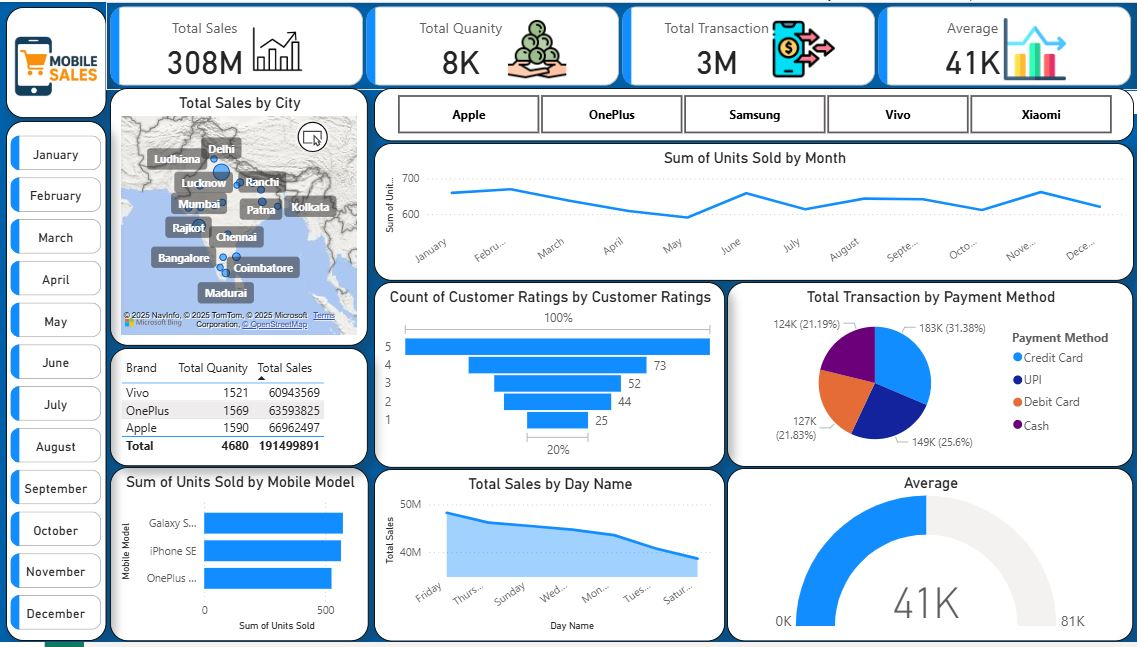

This screenshot's page, from the dashboard's own definition file:
{"tool":"powerbi","page":{"name":"Page 1","canvas":[1280,720],"ordinal":0},"visuals":[{"type":"shape","box":[6.8,5.6,112.5,124.9],"z":0},{"type":"cardVisual","fields":{"Data":["Sales_Data.Total Sales","Sales_Data.Total Quanity","Sales_Data.Total Transaction","Sales_Data.Average"]},"box":[119,0,1161,99],"z":1000},{"type":"map","fields":{"Size":["Sales_Data.Total Sales"],"Category":["Sales_Data.City"]},"box":[123.8,96.8,290.2,290.2],"z":2000},{"type":"lineChart","fields":{"Y":["Sum(Sales_Data.Units Sold)"],"Category":["Sales_Data.Date .Variation.Date Hierarchy.Month","Sales_Data.Date .Variation.Date Hierarchy.Day"]},"box":[420.8,158.6,855,155.2],"z":3000},{"type":"clusteredBarChart","fields":{"Category":["Sales_Data.Mobile Model"],"Y":["Sum(Sales_Data.Units Sold)"]},"box":[123.8,523.1,291.4,195.8],"z":4000},{"type":"pieChart","fields":{"Category":["Sales_Data.Payment Method"],"Y":["Sales_Data.Total Transaction"]},"box":[817.9,315,456.8,208.1],"z":5000},{"type":"funnel","fields":{"Category":["Sales_Data.Customer Ratings"],"Y":["CountNonNull(Sales_Data.Customer Ratings)"]},"box":[420.8,315,394.9,209.2],"z":6000},{"type":"areaChart","fields":{"Category":["Sales_Data.Day Name"],"Y":["Sales_Data.Total Sales"]},"box":[420.8,525.4,394.9,193.5],"z":7000},{"type":"tableEx","fields":{"Values":["Sales_Data.Brand","Sales_Data.Total Quanity","Sales_Data.Total Sales"]},"box":[123.8,389.2,290.2,132.8],"z":8000},{"type":"gauge","fields":{"Y":["Sales_Data.Average"]},"box":[817.9,524.2,456.8,194.6],"z":9000},{"type":"slicer","title":"S","fields":{"Values":["Sales_Data.Brand"]},"box":[420.8,96.8,855,59.6],"z":10000},{"type":"shape","box":[6.8,133.9,112.5,585],"z":11000},{"type":"advancedSlicerVisual","fields":{"Values":["Sales_Data.Date .Variation.Date Hierarchy.Month"]},"box":[6.8,145.1,112.5,573.8],"z":12000},{"type":"image","box":[0,0,123.8,145.1],"z":13000}]}

Visuals, with their boxes in screenshot pixels (x1, y1, x2, y2), scaled from the page's 1280x720 canvas onto the 1137x647 screenshot:
shape: 6:5:106:117
cardVisual - Sales_Data.Total Sales x Sales_Data.Total Quanity: 106:0:1136:89
map - Sales_Data.Total Sales x Sales_Data.City: 110:87:368:348
lineChart - Sum(Sales_Data.Units Sold) x Sales_Data.Date .Variation.Date Hierarchy.Month: 374:143:1133:282
clusteredBarChart - Sales_Data.Mobile Model x Sum(Sales_Data.Units Sold): 110:470:369:646
pieChart - Sales_Data.Payment Method x Sales_Data.Total Transaction: 727:283:1132:470
funnel - Sales_Data.Customer Ratings x CountNonNull(Sales_Data.Customer Ratings): 374:283:725:471
areaChart - Sales_Data.Day Name x Sales_Data.Total Sales: 374:472:725:646
tableEx - Sales_Data.Brand x Sales_Data.Total Quanity: 110:350:368:469
gauge - Sales_Data.Average: 727:471:1132:646
"S" slicer: 374:87:1133:141
shape: 6:120:106:646
advancedSlicerVisual - Sales_Data.Date .Variation.Date Hierarchy.Month: 6:130:106:646
image: 0:0:110:130
